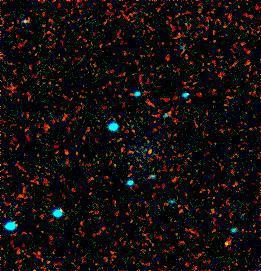star: (212, 227, 242, 257)
